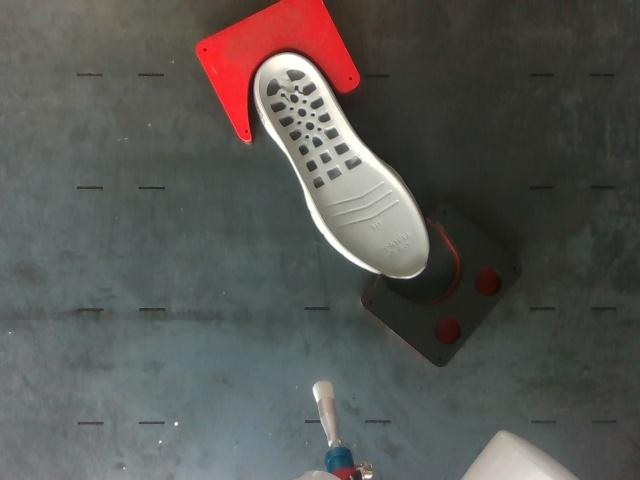shoes: (259, 54, 428, 278)
